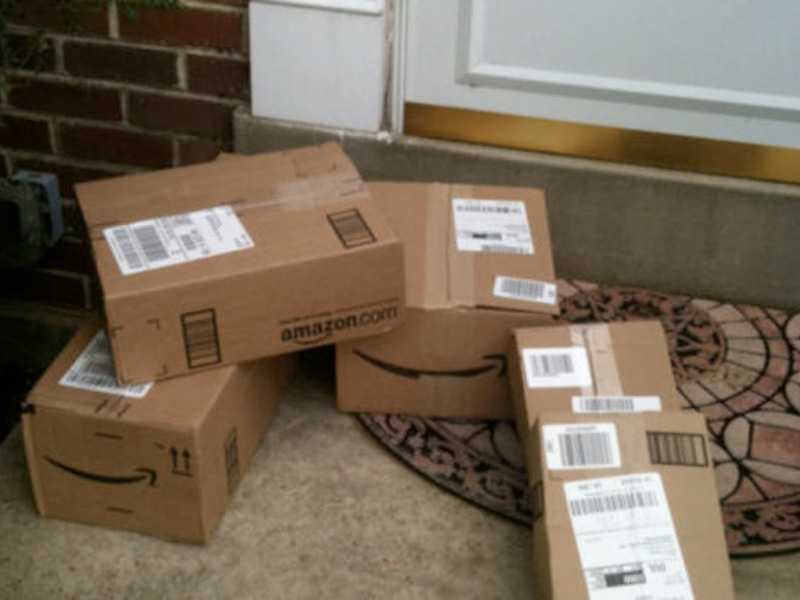package: (67, 126, 424, 395), (19, 368, 279, 556), (404, 166, 566, 434), (512, 402, 739, 585), (497, 306, 685, 412)
